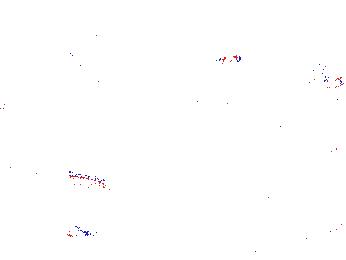X-ray fish: (56, 43, 111, 87)
glassfish: (42, 165, 115, 196)
red belly glassfish: (194, 48, 243, 65), (307, 71, 344, 88)
